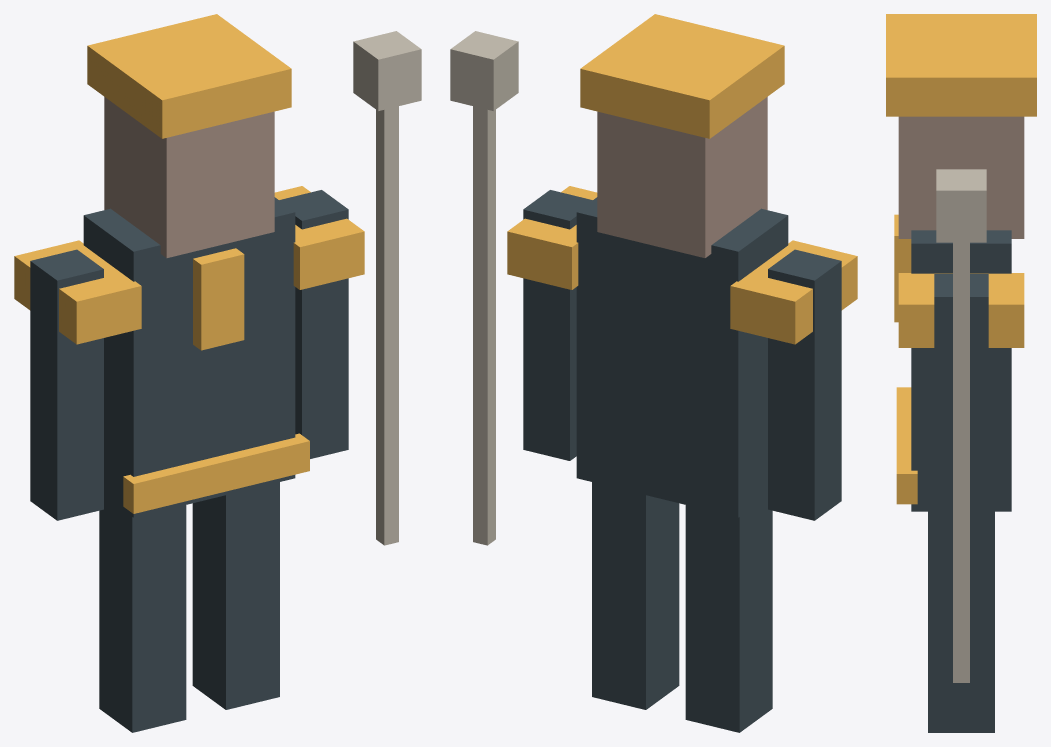
Rendered from 20_tovin_deepwell_cartographer_at_containment.glb.
3 views of the same model, side by side, from view 1: azimuth 30°, elevation 25°; view 2: azimuth 150°, elevation 25°; view 3: azimuth 270°, elevation 25° (orthographic).
Visible parts, largest first — view 1: Tovin Deepwell, Cartographer at Containment; view 2: Tovin Deepwell, Cartographer at Containment; view 3: Tovin Deepwell, Cartographer at Containment.
Part boxes in pixels (x1,y1,x2,y2): Tovin Deepwell, Cartographer at Containment: [14, 14, 421, 732]; Tovin Deepwell, Cartographer at Containment: [450, 14, 857, 732]; Tovin Deepwell, Cartographer at Containment: [886, 14, 1036, 732].
Size of the model in its own units: 0.9593 by 1.62 by 0.3402.
